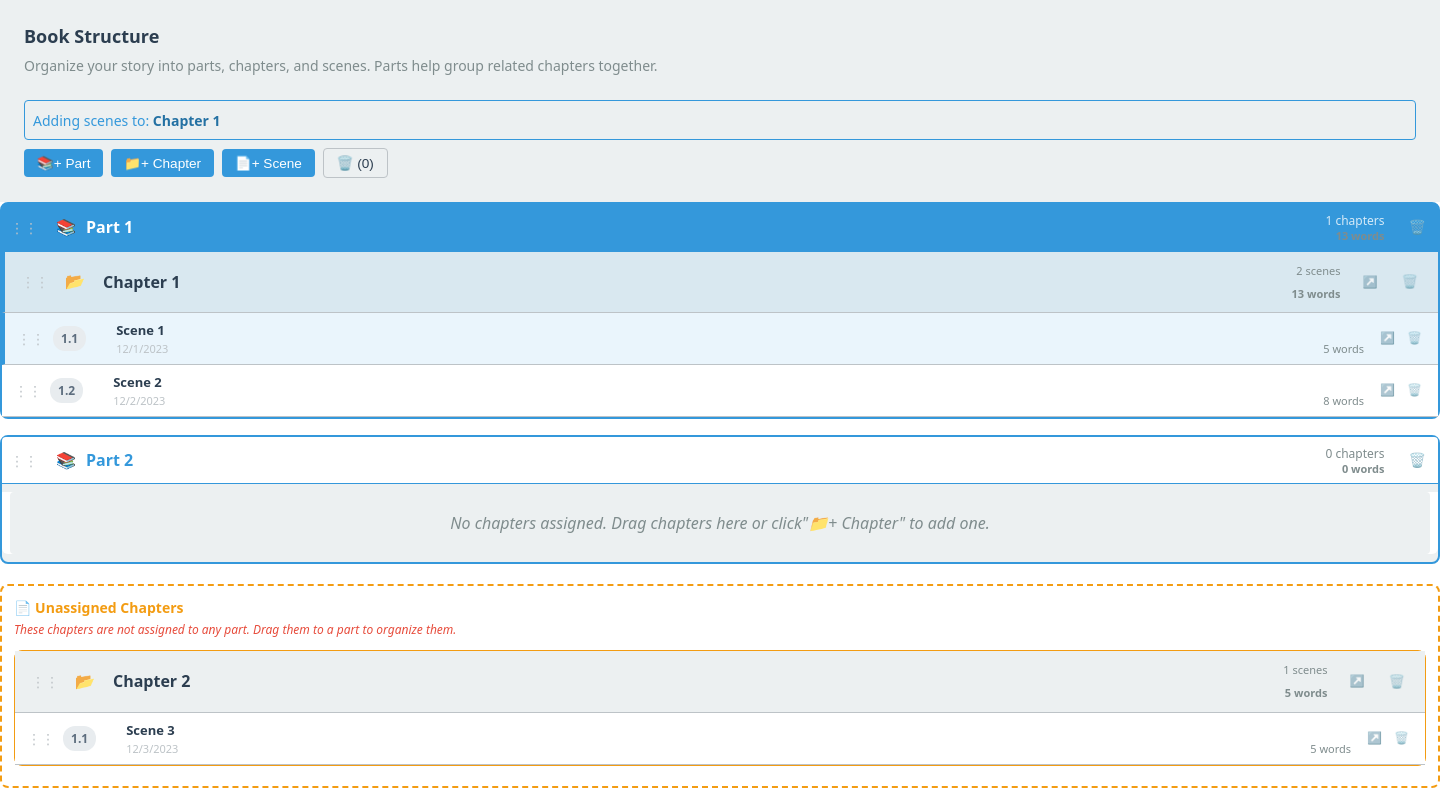
Test: SceneList Component › closes move menu when clicking outside
Note: Open move menu
Click the button titled "Move to another chapter" in the row of "12/1/2023" at coordinates (1388, 338), box 1376,329 -> 1399,347
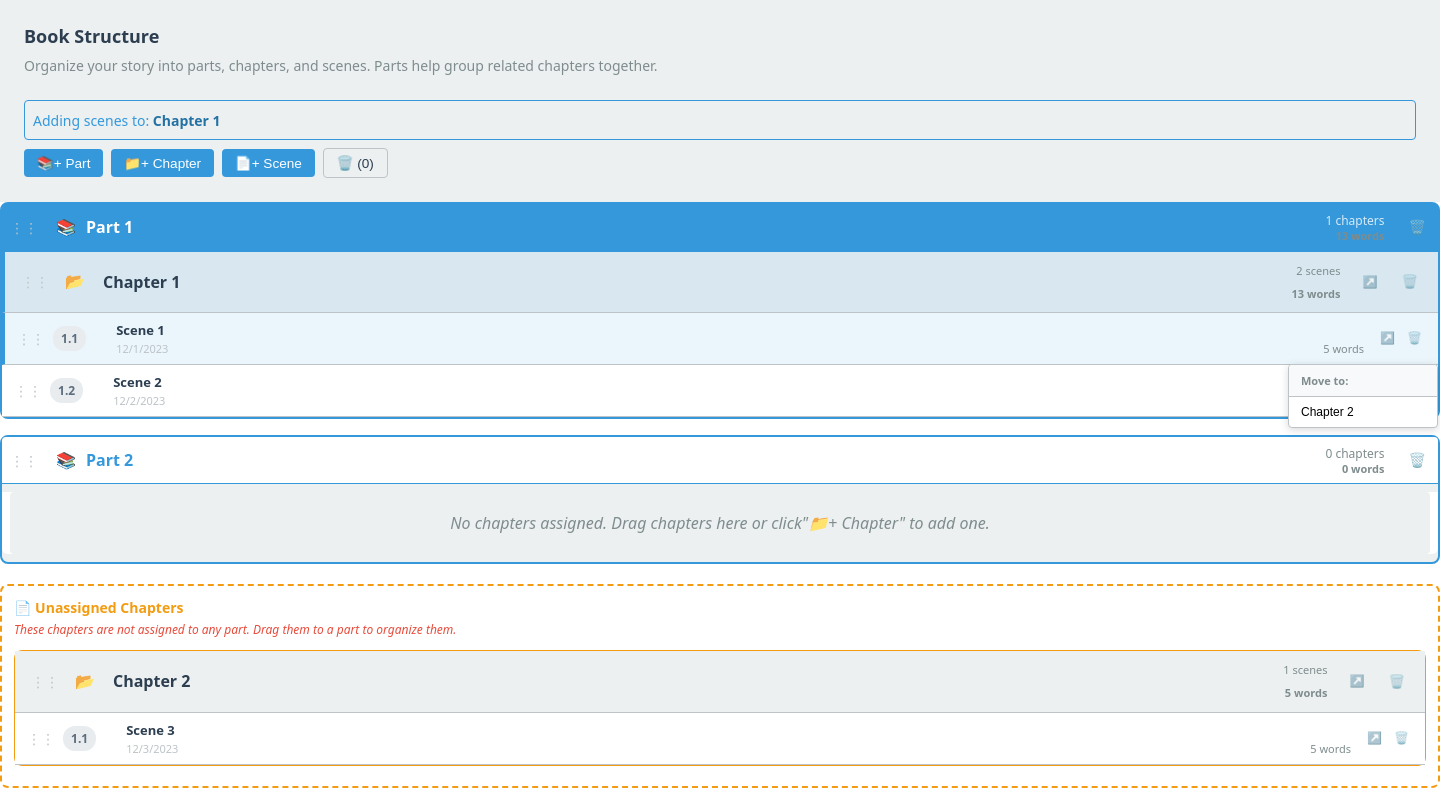
Now the text "Move to:" is shown, box 1289,365 -> 1437,397
Note: Click outside
Press the mouse on the element that starts with "Book Structure" at coordinates (720, 405), box 0,0 -> 1440,809
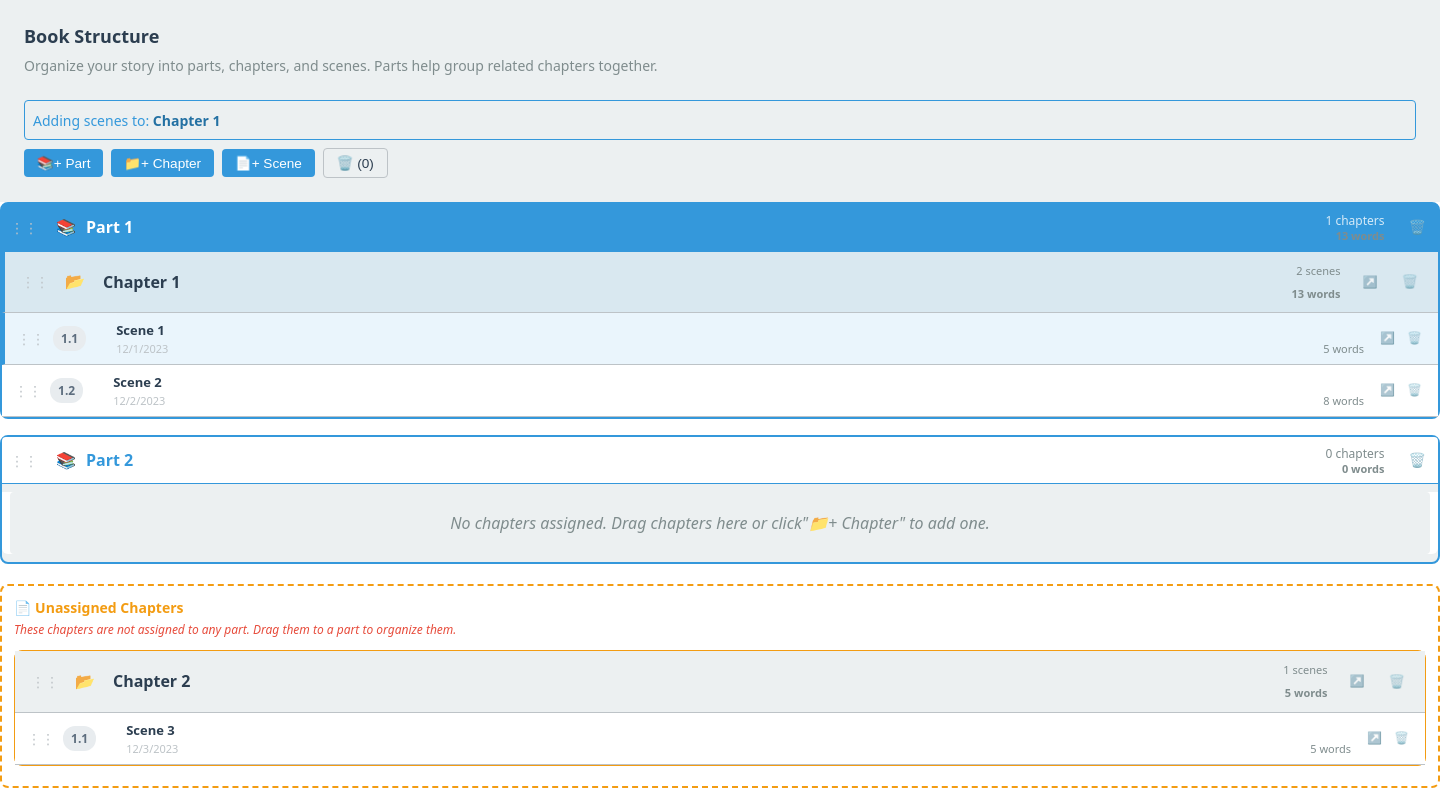
Now the text "Move to:" is gone
